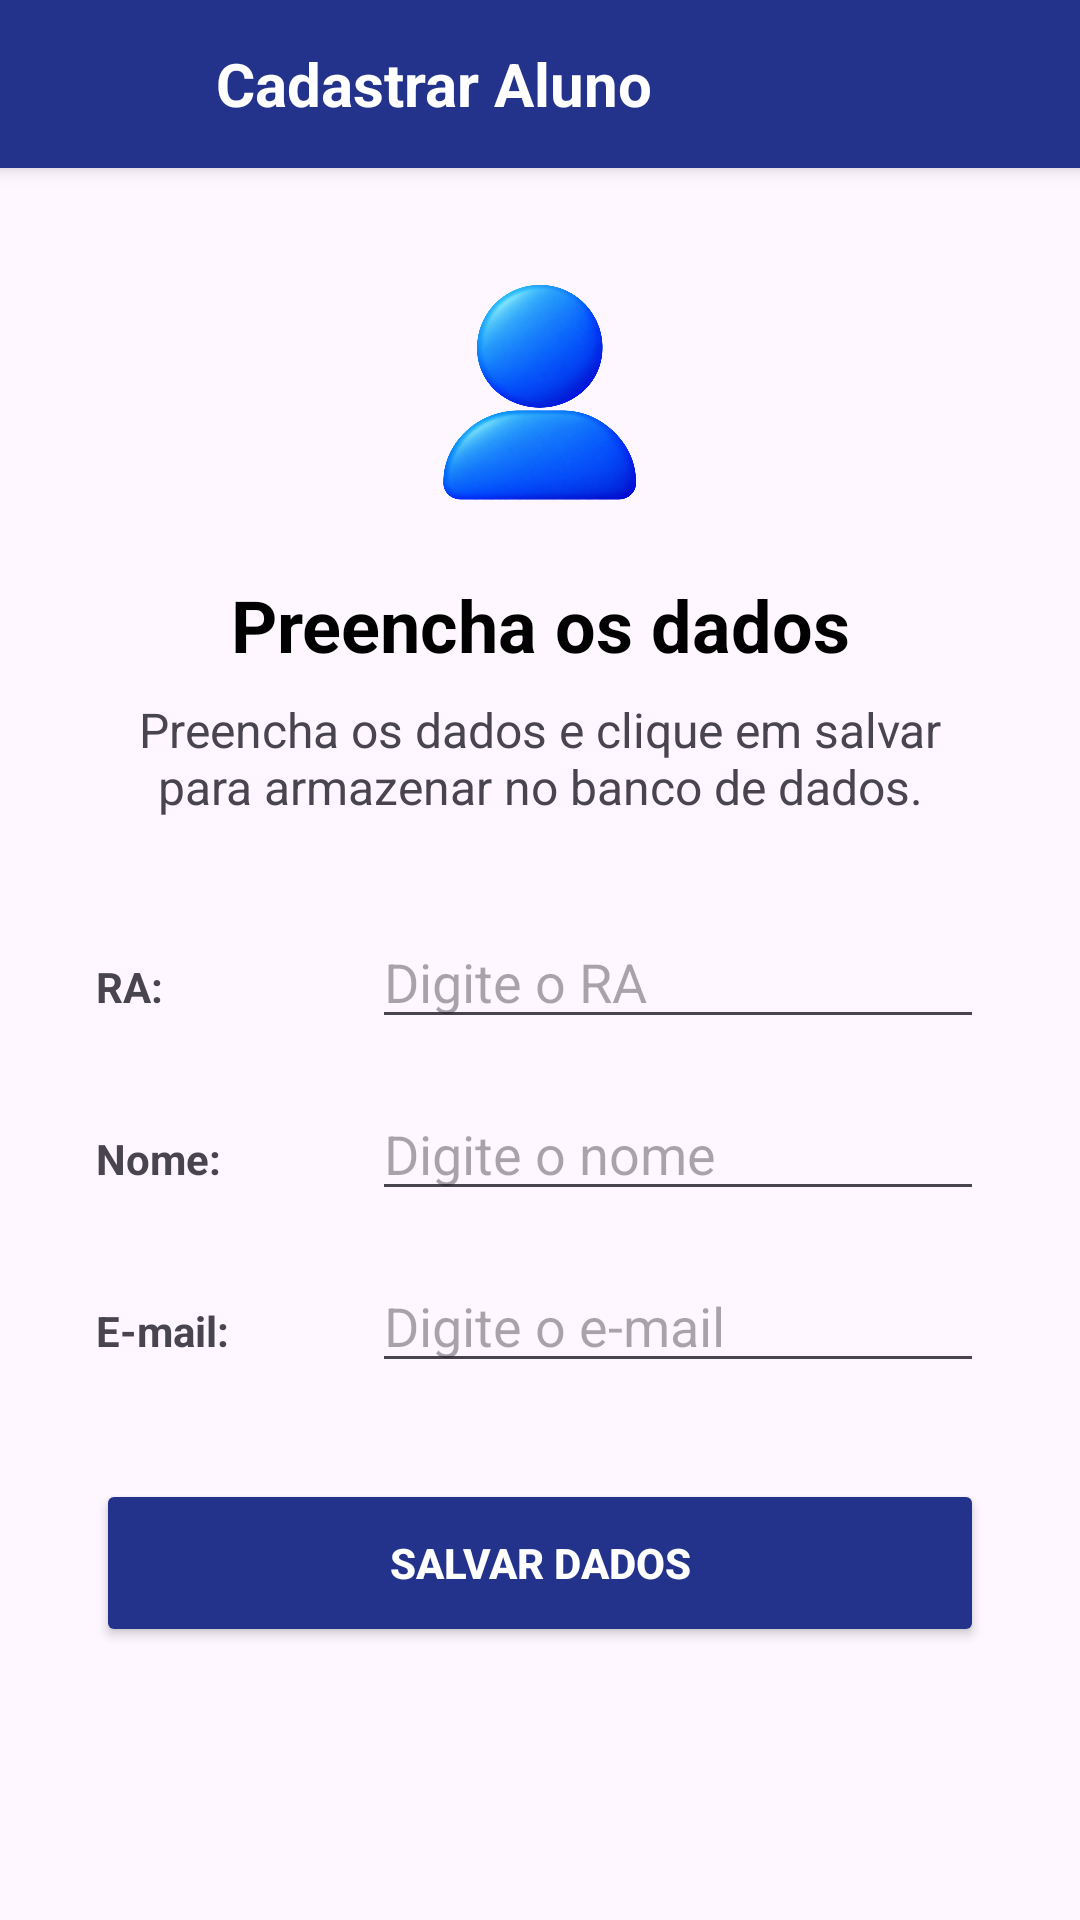

Icon bounding boxes for this 1080*1920 phone screenshot, format (x1, y1, x2, y2):
Cadastro de aluno: (443, 285, 636, 500)
